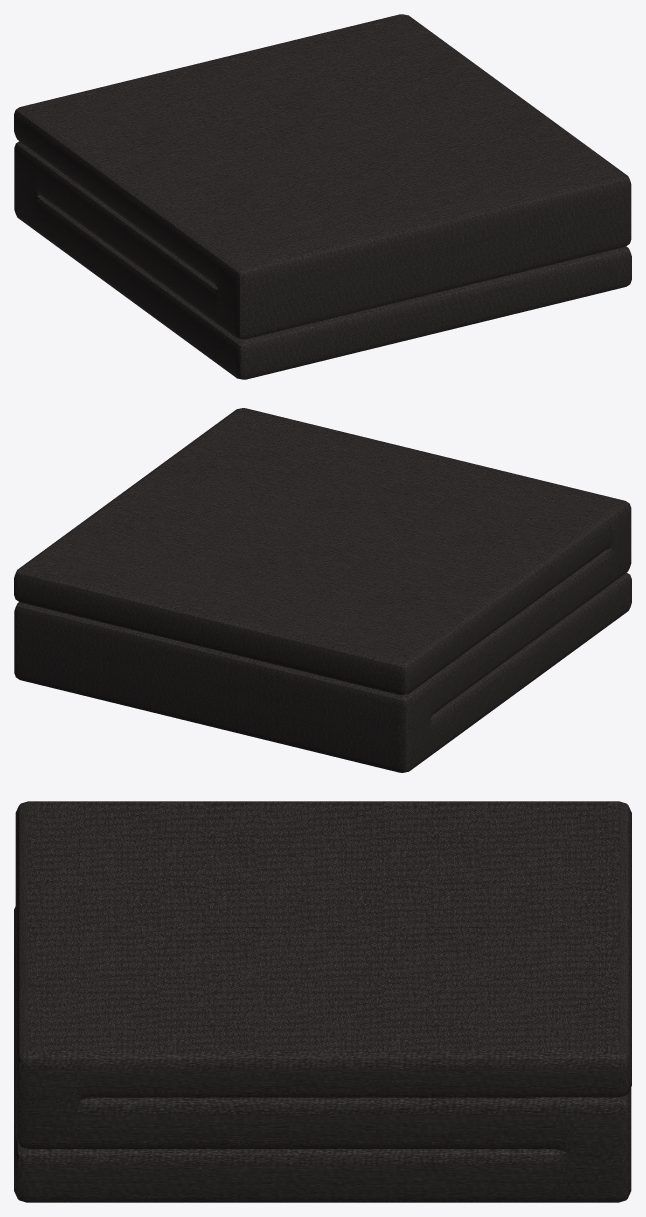
Rendered from towel_3.fbx.
The picture shows the model from 3 angles, top to bottom: view 1: azimuth 30°, elevation 25°; view 2: azimuth 150°, elevation 25°; view 3: azimuth 270°, elevation 25°; orthographic projection. The views are drawn at different scales.
Parts seen in each view (by area): view 1: pCube69; view 2: pCube69; view 3: pCube69.
Part boxes in pixels (left/top/right/bottom): pCube69: left=14, top=14, right=631, bottom=379; pCube69: left=14, top=408, right=631, bottom=772; pCube69: left=14, top=801, right=631, bottom=1202.
Size of the model in its own units: 0.01 by 0.00269 by 0.01.
Materials: 1 (1 with a texture image).
